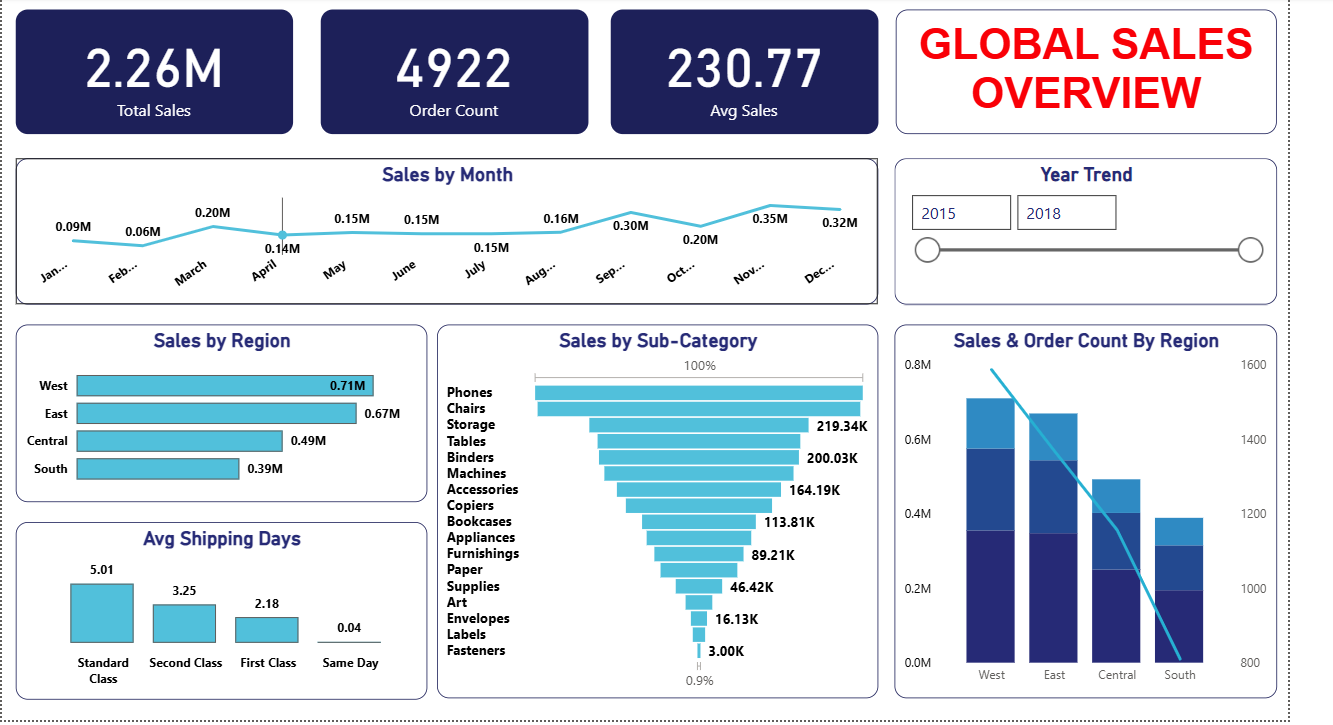

The page's visual inventory and layout, read from the dashboard file:
{"tool":"powerbi","page":{"name":"Page 1","canvas":[1280,720],"ordinal":0},"visuals":[{"type":"clusteredBarChart","title":" Sales by Region","fields":{"Category":["sales_data.Region"],"Y":["Sum(sales_data.Sales)"]},"box":[13.7,325.9,409.3,176.6],"z":0},{"type":"funnel","title":" Sales by Sub-Category","fields":{"Category":["sales_data.Sub-Category"],"Y":["Sum(sales_data.Sales)"]},"box":[432.9,325.9,439.1,371.9],"z":1000},{"type":"columnChart","title":"Avg Shipping Days ","fields":{"Category":["sales_data.Ship Mode"],"Y":["Avg(sales_data.Shipping Days)"]},"box":[13.7,522.5,409.3,176.6],"z":2000},{"type":"lineChart","title":" Sales by Month","fields":{"Category":["sales_data.Order Date.Variation.Date Hierarchy.Month"],"Y":["Sum(sales_data.Sales)"]},"box":[13.7,160.5,858.3,145.5],"z":3000},{"type":"lineStackedColumnComboChart","title":"Sales & Order Count By Region","fields":{"Category":["sales_data.Region"],"Y":["sales_data.Total Sales"],"Y2":["sales_data.Order Count"],"Series":["sales_data.Segment"]},"box":[888.2,325.9,380.7,371.9],"z":4000},{"type":"slicer","title":" Year Trend","fields":{"Values":["sales_data.Order Date.Variation.Date Hierarchy.Year"]},"box":[888.2,160.5,380.7,145.5],"z":5000},{"type":"card","fields":{"Values":["Sum(sales_data.Sales)"]},"box":[13.7,12.4,276.2,124.4],"z":6000},{"type":"card","fields":{"Values":["sales_data.Order Count"]},"box":[317.2,12.4,266.2,124.4],"z":7000},{"type":"card","fields":{"Values":["Avg(sales_data.Sales)"]},"box":[605.8,12.4,266.2,124.4],"z":8000},{"type":"textbox","box":[889.4,12.4,379.4,124.4],"z":8001}]}

Visuals, with their boxes in screenshot pixels (x1, y1, x2, y2):
" Sales by Region" clusteredBarChart: crop(21, 320, 427, 496)
" Sales by Sub-Category" funnel: crop(437, 320, 873, 690)
"Avg Shipping Days " columnChart: crop(21, 516, 427, 691)
" Sales by Month" lineChart: crop(21, 156, 873, 301)
"Sales & Order Count By Region" lineStackedColumnComboChart: crop(890, 320, 1268, 690)
" Year Trend" slicer: crop(890, 156, 1268, 301)
card - Sum(sales_data.Sales): crop(21, 9, 295, 132)
card - sales_data.Order Count: crop(322, 9, 587, 132)
card - Avg(sales_data.Sales): crop(609, 9, 873, 132)
textbox: crop(891, 9, 1268, 132)
